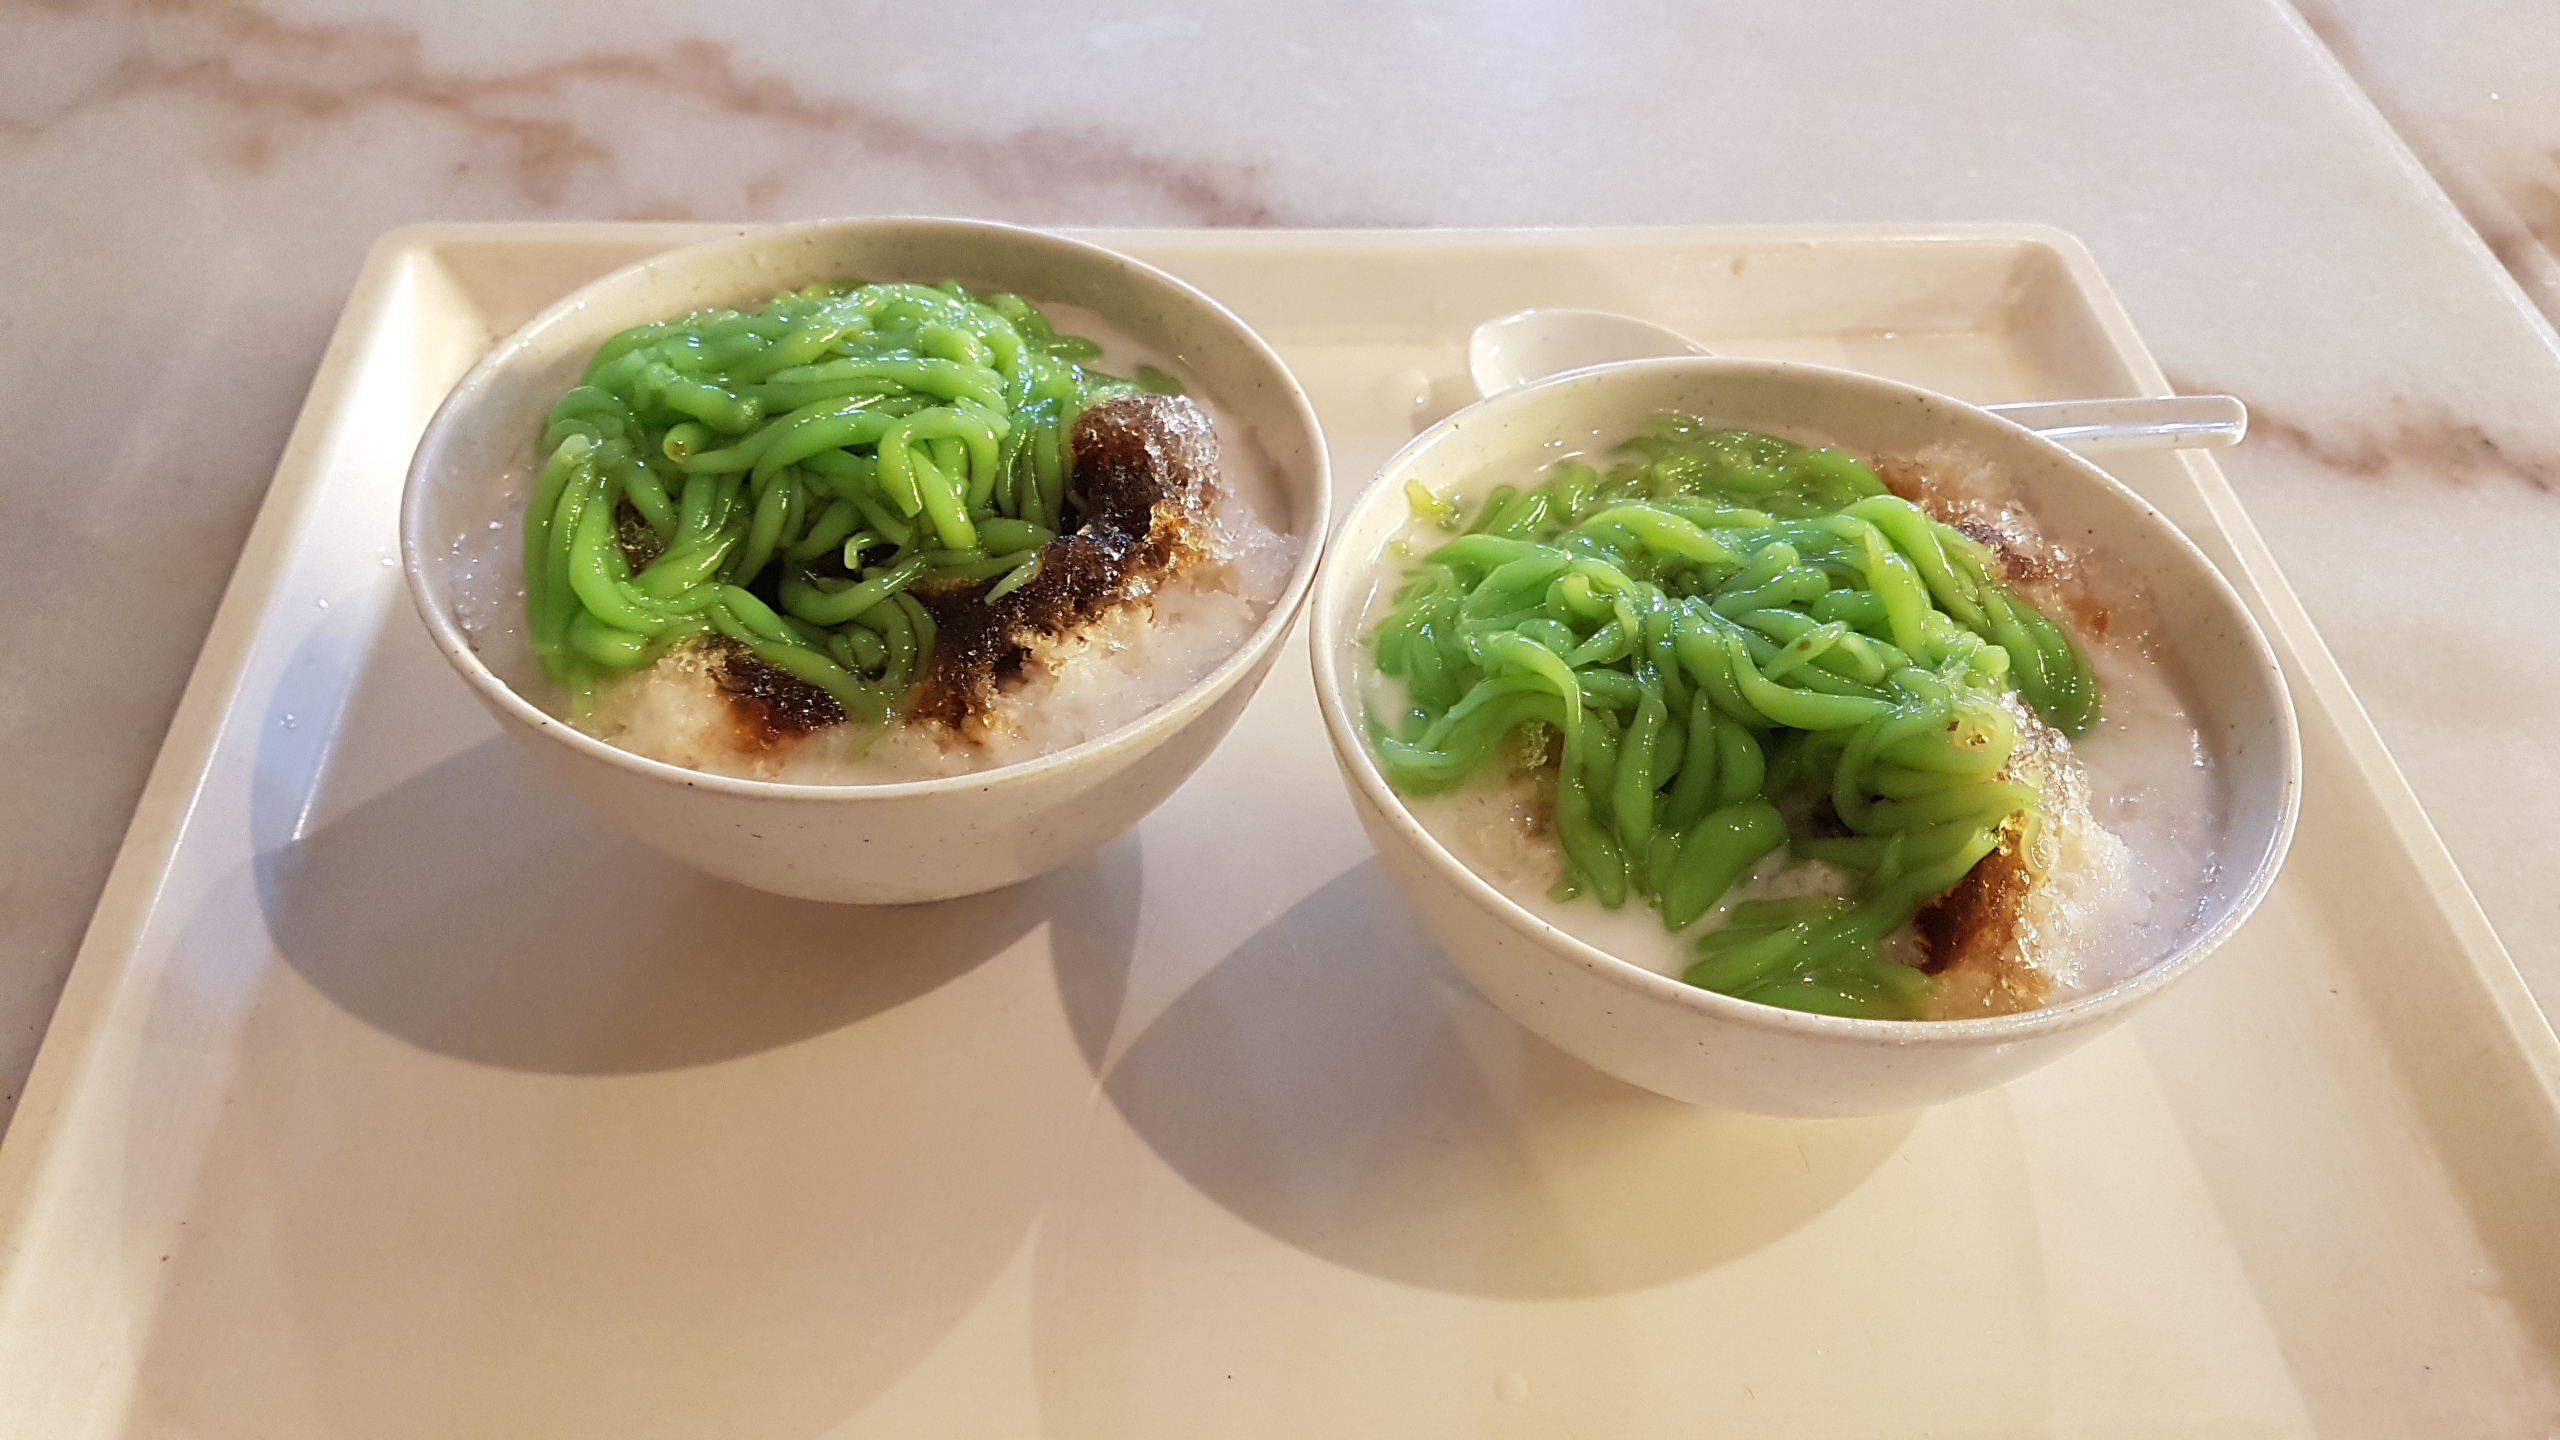Chendol: (383, 222, 1275, 874), (1371, 390, 2284, 1020)
